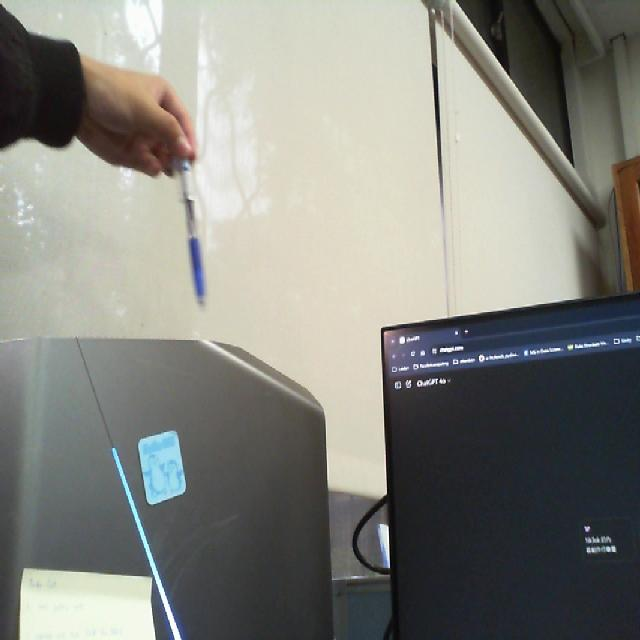Pen: (167, 128, 226, 330)
